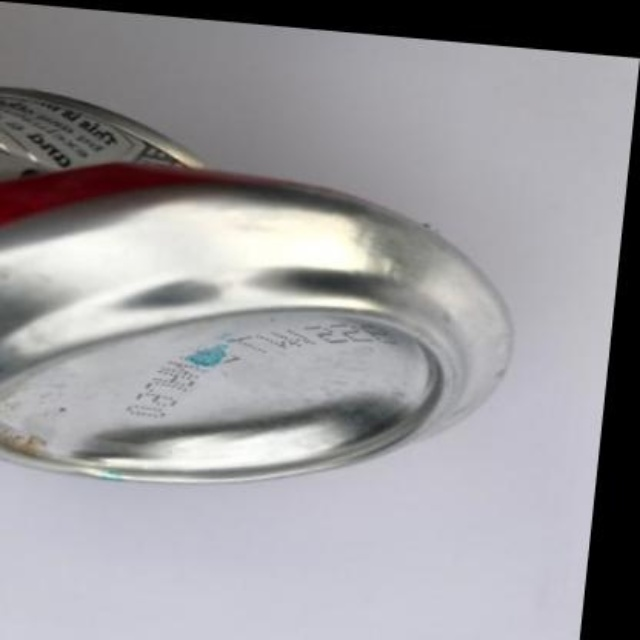trash: (0, 88, 511, 480)
